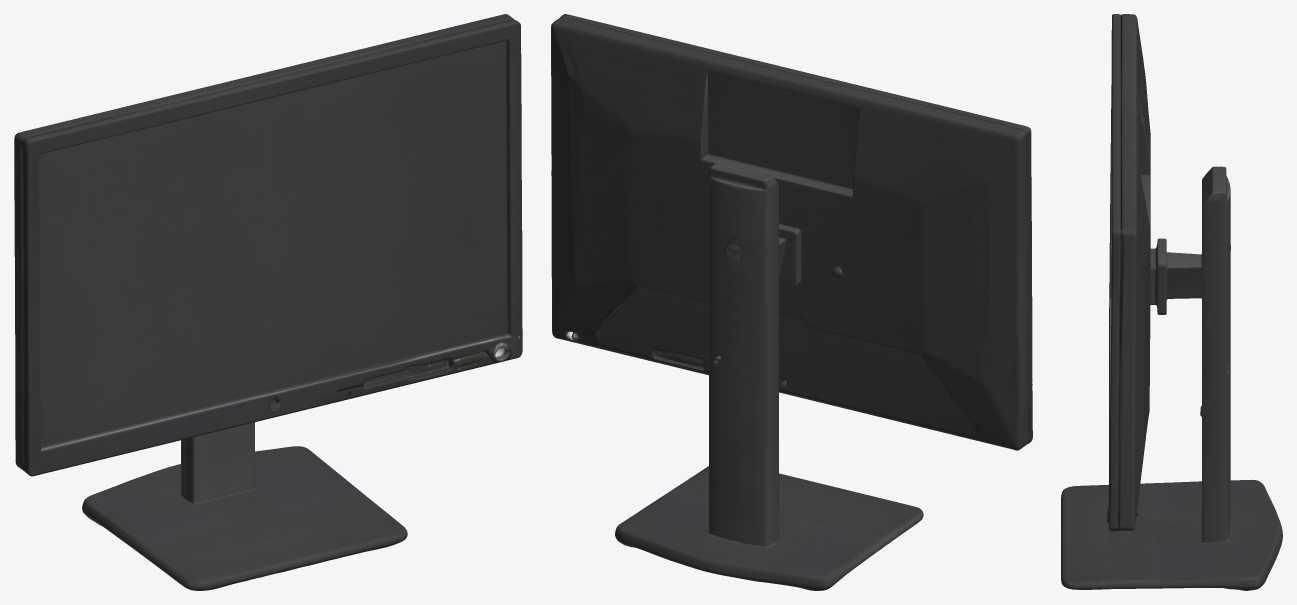
Rendered from Monitor.glb.
The picture shows the model from 3 angles, left to right: view 1: azimuth 30°, elevation 25°; view 2: azimuth 150°, elevation 25°; view 3: azimuth 270°, elevation 25°; orthographic projection. The views are drawn at different scales.
Parts seen in each view (by area): view 1: tripo_node_4e8ca25d-6e11-4354-a00a-9e0716803cbd; view 2: tripo_node_4e8ca25d-6e11-4354-a00a-9e0716803cbd; view 3: tripo_node_4e8ca25d-6e11-4354-a00a-9e0716803cbd.
Part boxes in pixels (x1,y1,x2,y2): tripo_node_4e8ca25d-6e11-4354-a00a-9e0716803cbd: (14,14,522,590); tripo_node_4e8ca25d-6e11-4354-a00a-9e0716803cbd: (551,14,1032,590); tripo_node_4e8ca25d-6e11-4354-a00a-9e0716803cbd: (1061,14,1282,590).
Size of the model in its own units: 1 by 0.9089 by 0.4292.
1 material, 1 textured.
